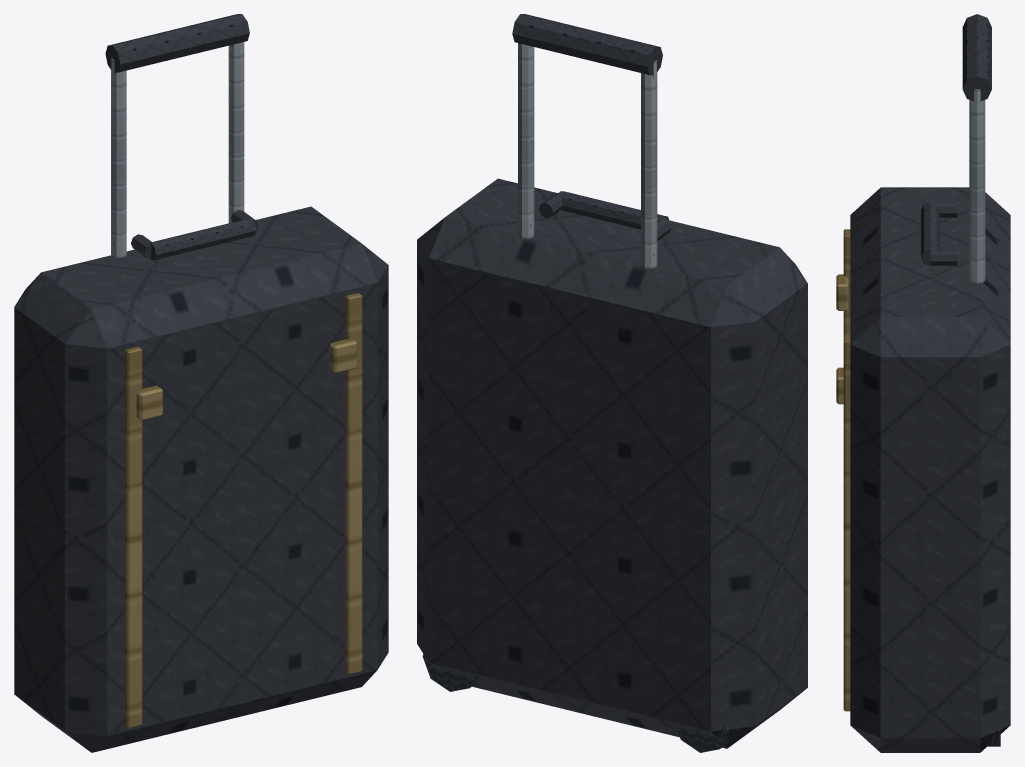
Rendered from MD_86_Suitcase.fbx.
3 renders of one model, left to right at view 1: azimuth 30°, elevation 25°; view 2: azimuth 150°, elevation 25°; view 3: azimuth 270°, elevation 25°, orthographic. The views are drawn at different scales.
Parts seen in each view (by area): view 1: MD_86_Suitcase_case_body, MD_86_Suitcase_strap, MD_86_Suitcase_strap.001, MD_86_Suitcase_telescopic_grip, MD_86_Suitcase_telescopic_rail, MD_86_Suitcase_telescopic_rail.001, MD_86_Suitcase_carry_handle_grip, MD_86_Suitcase_brass_lock.001, MD_86_Suitcase_brass_lock; view 2: MD_86_Suitcase_case_body, MD_86_Suitcase_telescopic_grip, MD_86_Suitcase_telescopic_rail, MD_86_Suitcase_telescopic_rail.001, MD_86_Suitcase_carry_handle_grip, MD_86_Suitcase_luggage_wheel, MD_86_Suitcase_luggage_wheel.001; view 3: MD_86_Suitcase_case_body, MD_86_Suitcase_telescopic_rail.001, MD_86_Suitcase_strap.001, MD_86_Suitcase_telescopic_grip, MD_86_Suitcase_carry_handle_grip, MD_86_Suitcase_strap, MD_86_Suitcase_brass_lock, MD_86_Suitcase_carry_handle_mount.001, MD_86_Suitcase_carry_handle_mount.
Part boxes in pixels (<box>): MD_86_Suitcase_case_body: <box>14,206,388,752</box>; MD_86_Suitcase_strap: <box>125,346,142,728</box>; MD_86_Suitcase_strap.001: <box>345,293,362,674</box>; MD_86_Suitcase_telescopic_grip: <box>105,14,249,72</box>; MD_86_Suitcase_telescopic_rail: <box>111,58,126,257</box>; MD_86_Suitcase_telescopic_rail.001: <box>228,42,244,223</box>; MD_86_Suitcase_carry_handle_grip: <box>150,218,256,260</box>; MD_86_Suitcase_brass_lock.001: <box>330,339,357,373</box>; MD_86_Suitcase_brass_lock: <box>136,385,162,420</box>; MD_86_Suitcase_case_body: <box>417,178,807,748</box>; MD_86_Suitcase_telescopic_grip: <box>512,14,662,75</box>; MD_86_Suitcase_telescopic_rail: <box>641,60,657,268</box>; MD_86_Suitcase_telescopic_rail.001: <box>518,43,534,238</box>; MD_86_Suitcase_carry_handle_grip: <box>558,191,669,229</box>; MD_86_Suitcase_luggage_wheel: <box>676,724,729,752</box>; MD_86_Suitcase_luggage_wheel.001: <box>422,651,475,691</box>; MD_86_Suitcase_case_body: <box>850,187,1010,752</box>; MD_86_Suitcase_telescopic_rail.001: <box>969,89,985,283</box>; MD_86_Suitcase_strap.001: <box>843,334,850,711</box>; MD_86_Suitcase_telescopic_grip: <box>962,14,991,101</box>; MD_86_Suitcase_carry_handle_grip: <box>921,201,939,266</box>; MD_86_Suitcase_strap: <box>843,229,850,335</box>; MD_86_Suitcase_brass_lock: <box>836,274,848,310</box>; MD_86_Suitcase_carry_handle_mount.001: <box>930,250,957,265</box>; MD_86_Suitcase_carry_handle_mount: <box>933,202,957,217</box>.
Size of the model in its own units: 0.55 by 1.06 by 0.261.
Materials: 4 (4 with a texture image).
